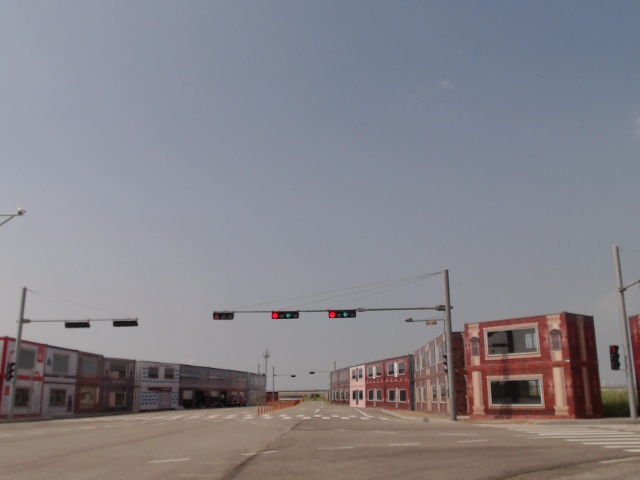left_green_4: (329, 311, 355, 319), (272, 312, 298, 319)
